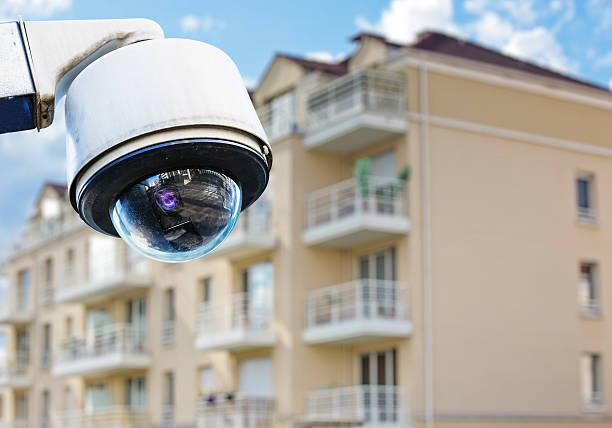camera: (0, 2, 391, 298)
